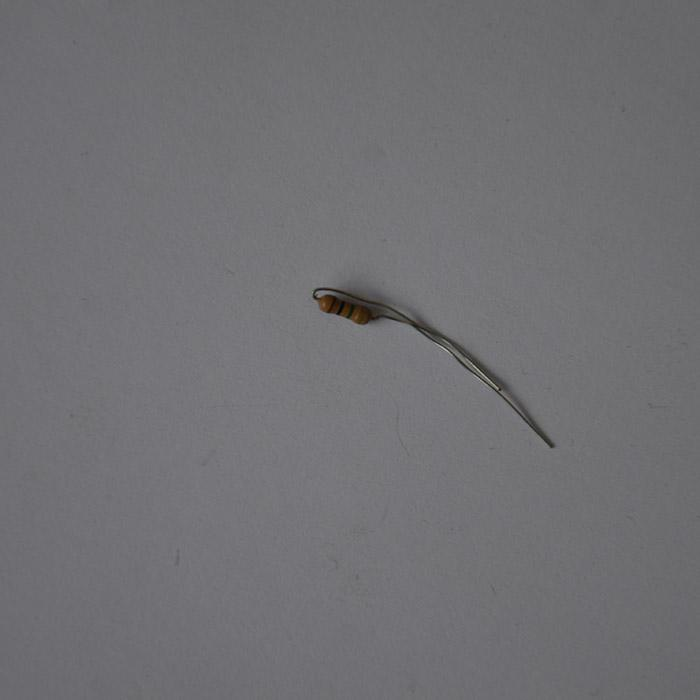resistor: (317, 293, 372, 326)
